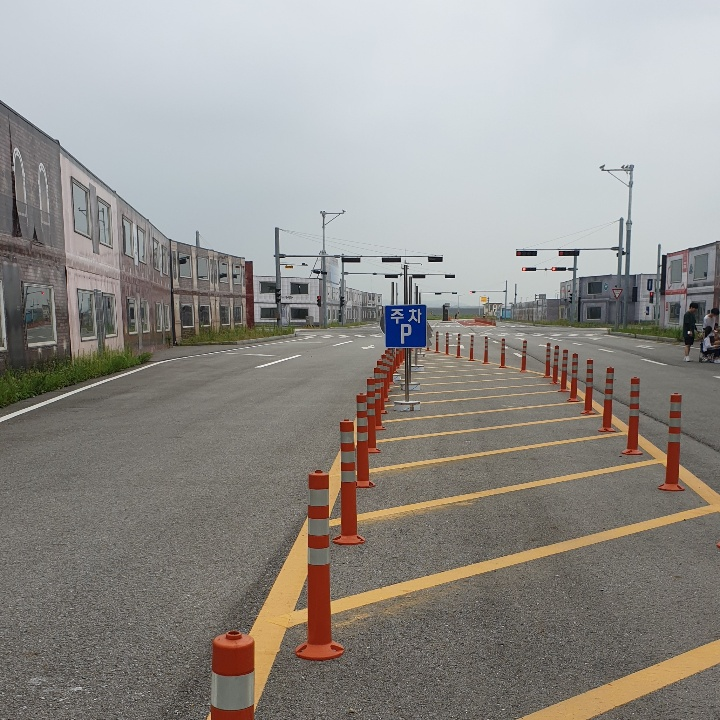parking: (393, 318, 418, 347)
